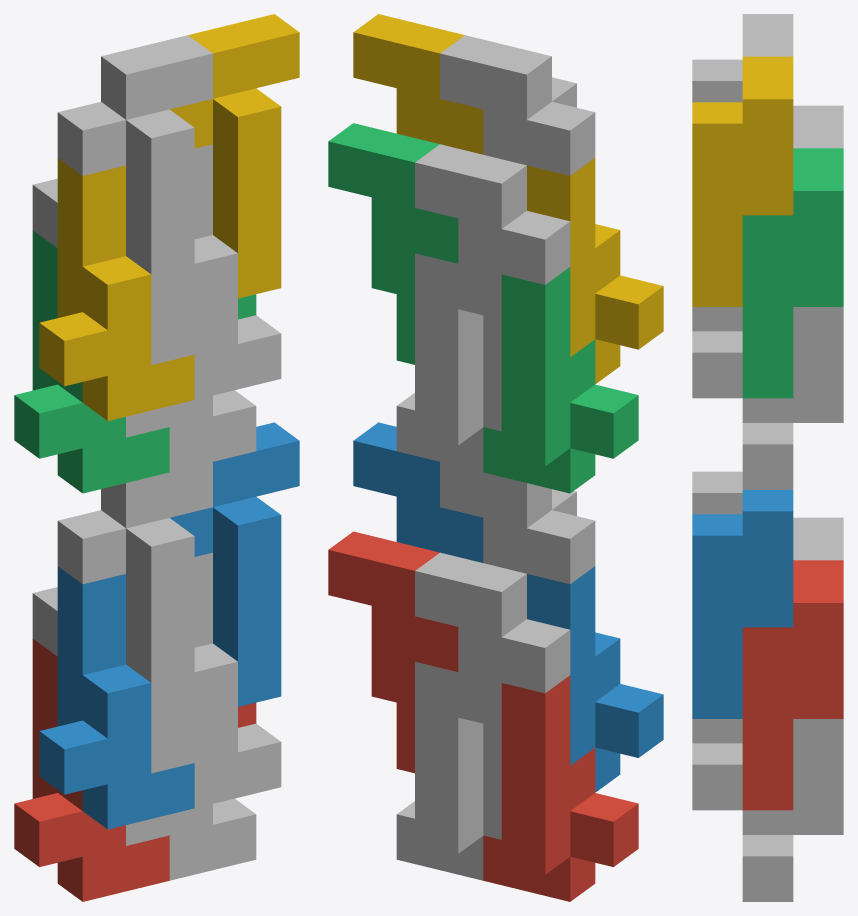
The model's file is tiling.obj.
The picture shows the model from 3 angles, left to right: view 1: azimuth 30°, elevation 25°; view 2: azimuth 150°, elevation 25°; view 3: azimuth 270°, elevation 25°; orthographic projection.
Parts seen in each view (by area): view 1: copy_2_domain_4, copy_1_domain_4, copy_1_domain_2, copy_2_domain_2, copy_2_domain_8, copy_2_domain_6, copy_1_domain_1, copy_1_domain_3, copy_1_domain_8, copy_1_domain_6, copy_1_domain_7, copy_1_domain_5 (+2 smaller); view 2: copy_1_domain_3, copy_1_domain_1, copy_2_domain_3, copy_2_domain_1, copy_1_domain_5, copy_1_domain_7, copy_2_domain_4, copy_2_domain_7, copy_2_domain_5, copy_1_domain_2, copy_1_domain_4, copy_2_domain_2 (+2 smaller); view 3: copy_2_domain_8, copy_2_domain_5, copy_2_domain_7, copy_2_domain_6, copy_1_domain_5, copy_1_domain_7, copy_1_domain_6, copy_1_domain_8, copy_2_domain_4, copy_2_domain_1, copy_2_domain_2, copy_2_domain_3.
Boxes of the visible parts, x1,y1,x2,y2 form: copy_2_domain_4: (57, 35, 212, 319); copy_1_domain_4: (39, 158, 194, 420); copy_1_domain_2: (39, 566, 194, 829); copy_2_domain_2: (57, 462, 212, 727); copy_2_domain_8: (170, 14, 299, 298); copy_2_domain_6: (170, 422, 299, 706); copy_1_domain_1: (14, 639, 169, 901); copy_1_domain_3: (14, 230, 169, 493); copy_1_domain_8: (151, 144, 281, 399); copy_1_domain_6: (151, 552, 281, 808); copy_1_domain_7: (126, 390, 256, 472); copy_1_domain_5: (126, 798, 256, 880); copy_1_domain_3: (483, 267, 638, 493); copy_1_domain_1: (483, 675, 638, 901); copy_2_domain_3: (415, 144, 570, 385); copy_2_domain_1: (415, 552, 570, 794); copy_1_domain_5: (396, 661, 501, 880); copy_1_domain_7: (396, 253, 501, 472); copy_2_domain_4: (440, 35, 595, 175); copy_2_domain_7: (328, 123, 458, 364); copy_2_domain_5: (328, 531, 458, 773); copy_1_domain_2: (527, 566, 663, 792); copy_1_domain_4: (527, 158, 663, 383); copy_2_domain_2: (440, 462, 595, 584); copy_2_domain_8: (692, 56, 793, 306); copy_2_domain_5: (742, 560, 843, 810); copy_2_domain_7: (742, 148, 843, 398); copy_2_domain_6: (692, 490, 793, 718); copy_1_domain_5: (742, 719, 843, 901); copy_1_domain_7: (742, 307, 843, 489); copy_1_domain_6: (692, 719, 742, 810); copy_1_domain_8: (692, 307, 742, 398); copy_2_domain_4: (692, 14, 793, 102); copy_2_domain_1: (793, 517, 843, 560); copy_2_domain_2: (692, 471, 742, 514); copy_2_domain_3: (793, 105, 843, 148).
Size of the model in its own units: 6 by 18 by 3.
